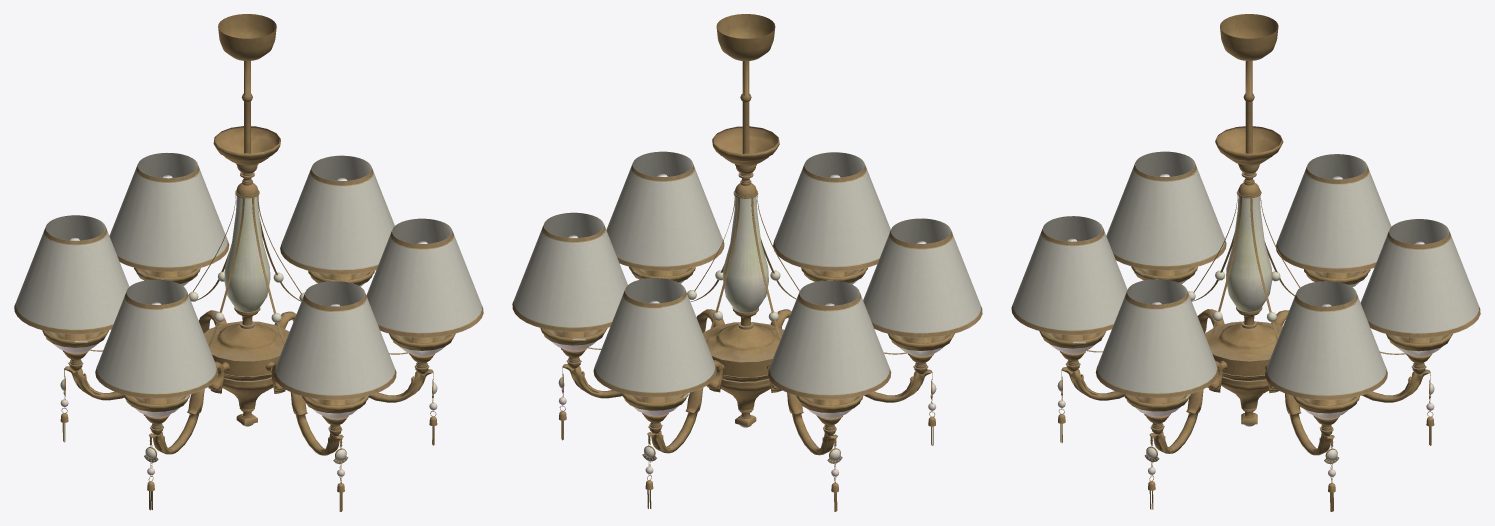
The model's file is Chandelier_01-8e78c54c.glb.
3 renders of one model, left to right at view 1: azimuth 30°, elevation 25°; view 2: azimuth 150°, elevation 25°; view 3: azimuth 270°, elevation 25°, orthographic.
Parts seen in each view (by area): view 1: Chandelier_01; view 2: Chandelier_01; view 3: Chandelier_01.
Boxes of the visible parts, x1,y1,x2,y2 form: Chandelier_01: (14, 14, 483, 511); Chandelier_01: (512, 14, 982, 511); Chandelier_01: (1011, 14, 1480, 511).
Size of the model in its own units: 0.7465 by 0.7983 by 0.8155.
Materials: 2 (1 with a texture image).
